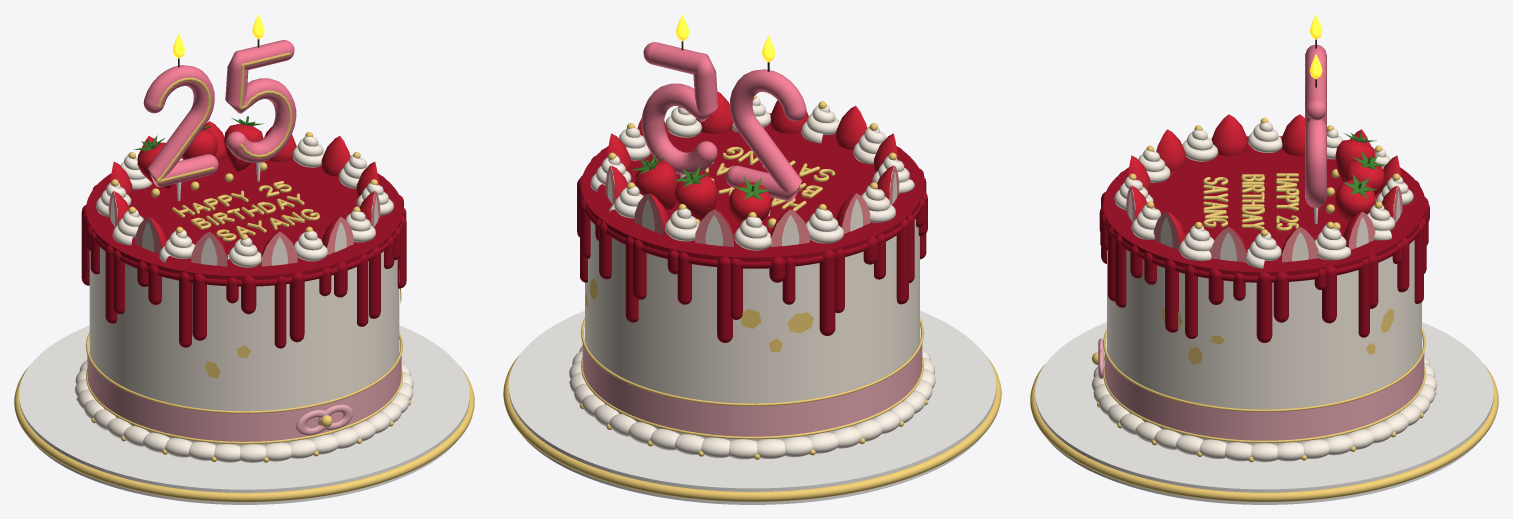
Rendered from birthday_cake_with_candles_25.glb.
The picture shows the model from 3 angles, left to right: view 1: azimuth 30°, elevation 25°; view 2: azimuth 150°, elevation 25°; view 3: azimuth 270°, elevation 25°; orthographic projection. The views are drawn at different scales.
Visible parts, largest first — view 1: cake_tier, cake_board, glaze_top, glaze, ribbon_band, cake_board_gold_rim, candle_5_body_stroke1, candle_2_body_stroke1, ribbon, glaze_lip, candle_5_trim_stroke1, candle_2_trim_stroke1 (+15 smaller); view 2: cake_tier, cake_board, glaze_top, glaze, ribbon_band, cake_board_gold_rim, candle_5_body_stroke1, candle_2_body_stroke1, ribbon, glaze_lip, strawberry_whole_3_fruit, strawberry_whole_2_fruit (+18 smaller); view 3: cake_tier, cake_board, glaze_top, glaze, ribbon_band, cake_board_gold_rim, candle_5_body_stroke1, ribbon, glaze_lip, strawberry_half_6_skin, strawberry_whole_3_fruit, rosette_12_swirl (+15 smaller).
Part boxes in pixels (bbox=[...]): cake_tier: bbox=[89, 247, 399, 446]; cake_board: bbox=[19, 325, 469, 504]; glaze_top: bbox=[86, 156, 402, 280]; glaze: bbox=[81, 175, 406, 348]; ribbon_band: bbox=[87, 355, 401, 441]; cake_board_gold_rim: bbox=[14, 367, 474, 502]; candle_5_body_stroke1: bbox=[225, 40, 296, 162]; candle_2_body_stroke1: bbox=[144, 65, 214, 187]; ribbon: bbox=[86, 332, 402, 444]; glaze_lip: bbox=[84, 206, 404, 286]; candle_5_trim_stroke1: bbox=[237, 53, 292, 158]; candle_2_trim_stroke1: bbox=[156, 77, 213, 183]; cake_tier: bbox=[585, 219, 919, 441]; cake_board: bbox=[508, 310, 996, 504]; glaze_top: bbox=[581, 113, 923, 261]; glaze: bbox=[577, 147, 927, 342]; ribbon_band: bbox=[582, 343, 922, 436]; cake_board_gold_rim: bbox=[503, 355, 1001, 501]; candle_5_body_stroke1: bbox=[641, 42, 718, 174]; candle_2_body_stroke1: bbox=[729, 69, 805, 201]; ribbon: bbox=[581, 318, 923, 439]; glaze_lip: bbox=[579, 183, 925, 268]; strawberry_whole_3_fruit: bbox=[635, 160, 677, 209]; strawberry_whole_2_fruit: bbox=[674, 173, 717, 221]; cake_tier: bbox=[1107, 240, 1421, 444]; cake_board: bbox=[1035, 322, 1493, 504]; glaze_top: bbox=[1103, 136, 1425, 276]; glaze: bbox=[1099, 171, 1429, 342]; ribbon_band: bbox=[1104, 353, 1424, 440]; cake_board_gold_rim: bbox=[1030, 364, 1498, 502]; candle_5_body_stroke1: bbox=[1305, 77, 1326, 207]; ribbon: bbox=[1103, 329, 1425, 442]; glaze_lip: bbox=[1101, 202, 1427, 282]; strawberry_half_6_skin: bbox=[1211, 114, 1247, 155]; strawberry_whole_3_fruit: bbox=[1335, 179, 1375, 223]; rosette_12_swirl: bbox=[1314, 225, 1350, 260].
Bounding box in the file's own units: 0.327 × 0.288 × 0.327.
